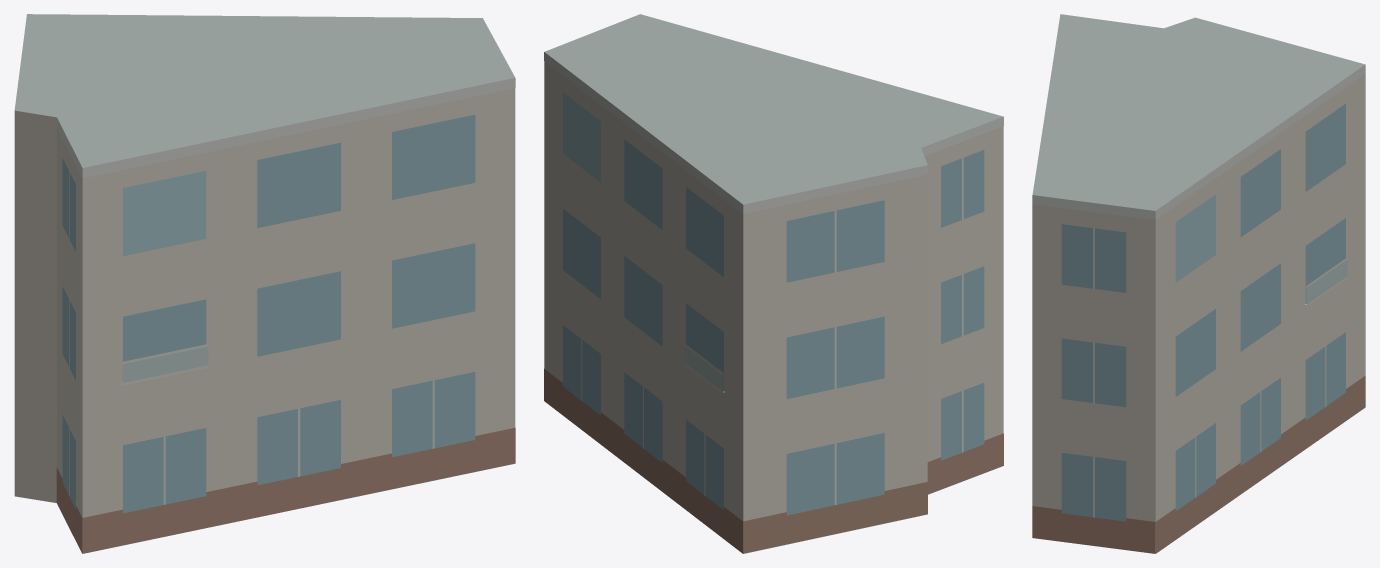
File: survey-upis-32936584.glb
3 renders of one model, left to right at view 1: azimuth 30°, elevation 25°; view 2: azimuth 150°, elevation 25°; view 3: azimuth 270°, elevation 25°, orthographic. The views are drawn at different scales.
Visible parts, largest first — view 1: survey-upis-32936584.tmp; view 2: survey-upis-32936584.tmp; view 3: survey-upis-32936584.tmp.
Boxes of the visible parts, <box> form: survey-upis-32936584.tmp: <box>14,14,515,553</box>; survey-upis-32936584.tmp: <box>544,14,1003,553</box>; survey-upis-32936584.tmp: <box>1032,14,1365,553</box>.
Size of the model in its own units: 11.28 by 9.15 by 8.07.
